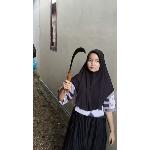Celurit: (64, 44, 89, 92)
